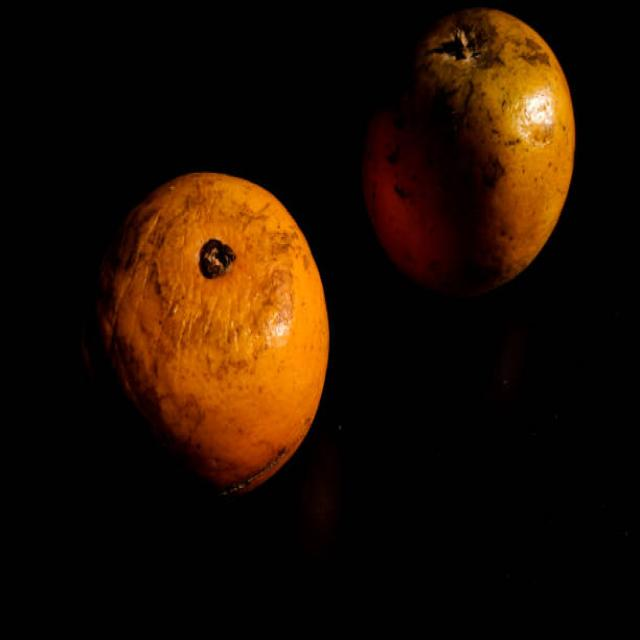overripe: (89, 169, 336, 500), (356, 3, 578, 308)
